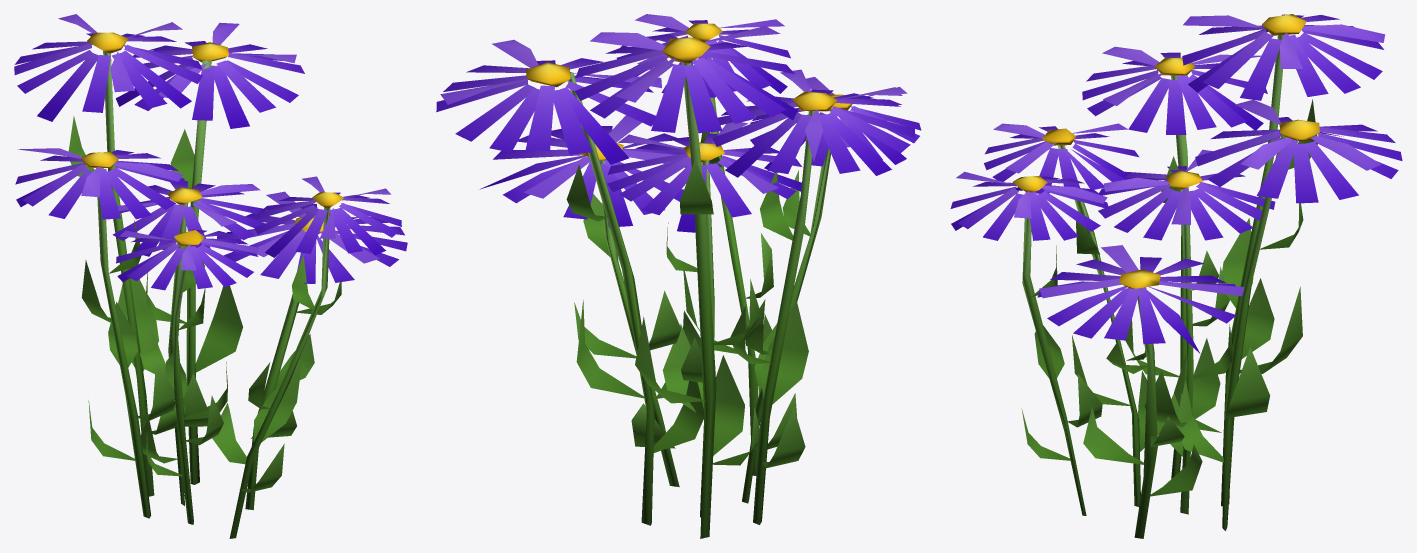
Rendered from flower (4)_LOD2.fbx.
The picture shows the model from 3 angles, left to right: view 1: azimuth 30°, elevation 25°; view 2: azimuth 150°, elevation 25°; view 3: azimuth 270°, elevation 25°; orthographic projection. The views are drawn at different scales.
Visible parts, largest first — view 1: 03_Aster; view 2: 03_Aster; view 3: 03_Aster.
Boxes of the visible parts, box(x1,y1,x2,y2) form: 03_Aster: box(14, 14, 407, 538); 03_Aster: box(436, 14, 921, 538); 03_Aster: box(950, 14, 1402, 538).
Size of the model in its own units: 88.13 by 106 by 89.93.
